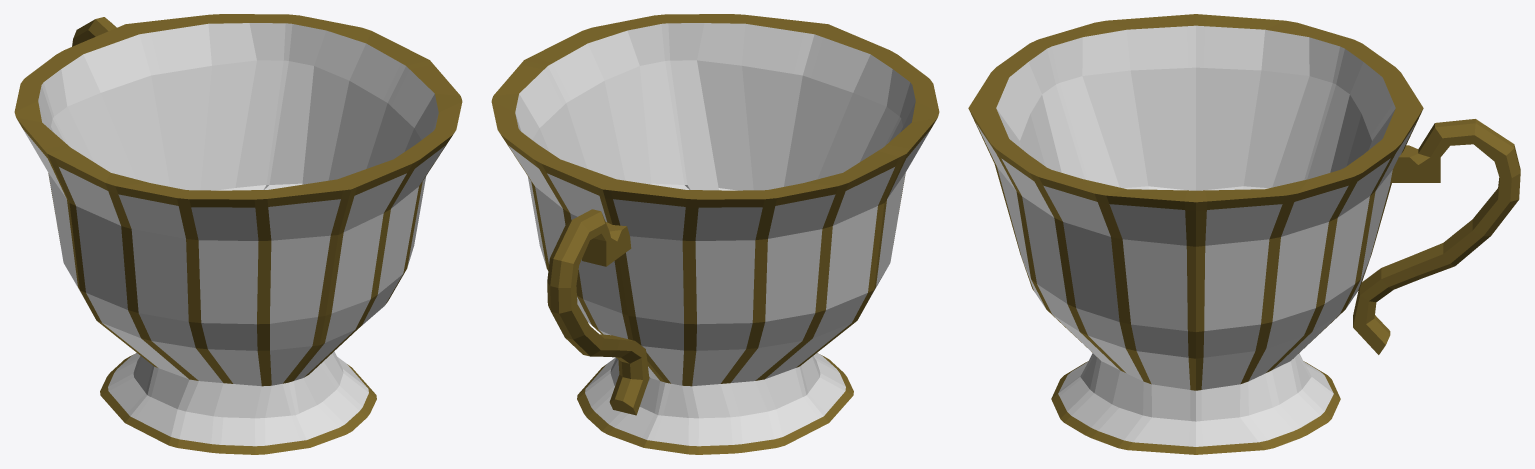
Rendered from teacup.glb.
The picture shows the model from 3 angles, left to right: view 1: azimuth 30°, elevation 25°; view 2: azimuth 150°, elevation 25°; view 3: azimuth 270°, elevation 25°; orthographic projection.
Parts seen in each view (by area): view 1: Cube.001, Cube.002; view 2: Cube.001, Cube.002; view 3: Cube.001, Cube.002.
Boxes of the visible parts, x1=… form: Cube.001: x1=14, y1=14, x2=462, y2=454; Cube.002: x1=72, y1=17, x2=116, y2=46; Cube.001: x1=491, y1=14, x2=939, y2=454; Cube.002: x1=547, y1=209, x2=649, y2=415; Cube.001: x1=968, y1=14, x2=1423, y2=454; Cube.002: x1=1353, y1=119, x2=1520, y2=354.
Size of the model in its own units: 0.7551 by 0.5439 by 0.9358.
